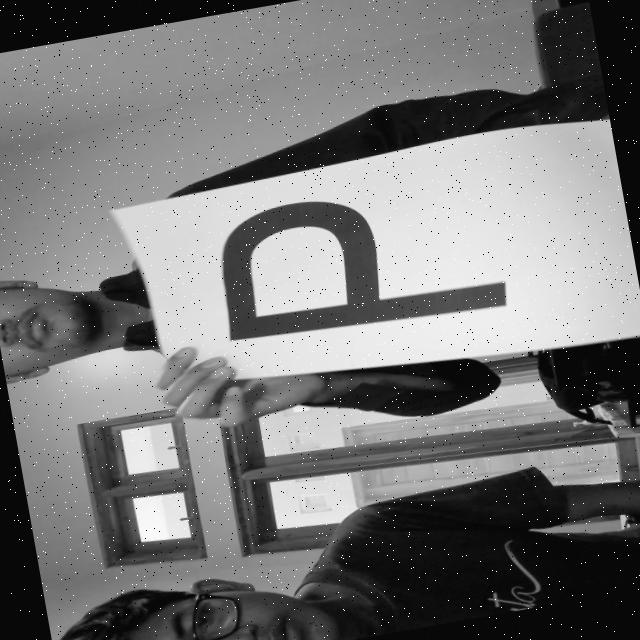p: (185, 146, 564, 362)
